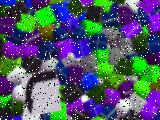Left: (20, 69, 62, 117)
